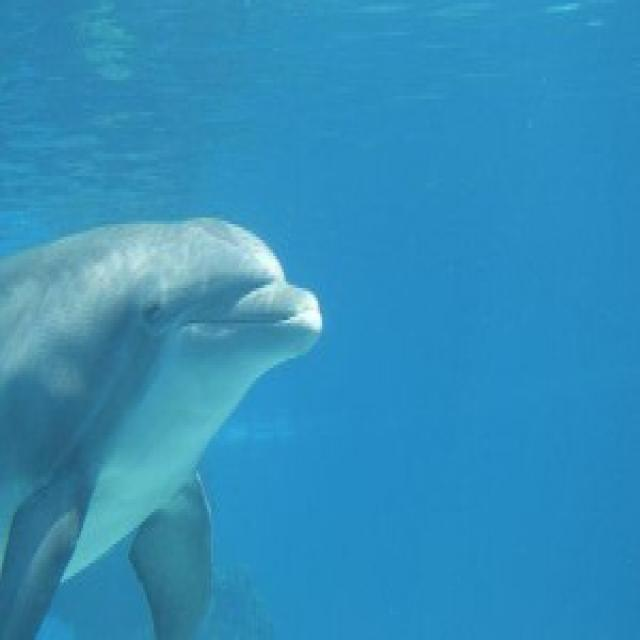Dolphin: (0, 191, 334, 640)
